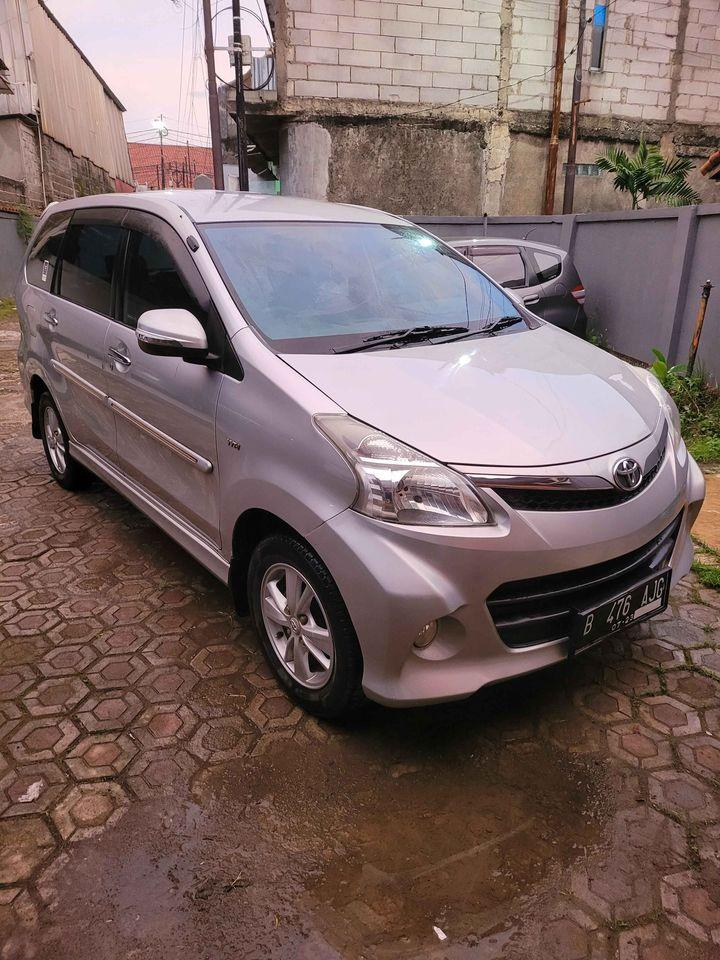plat nomor: (563, 557, 677, 660)
